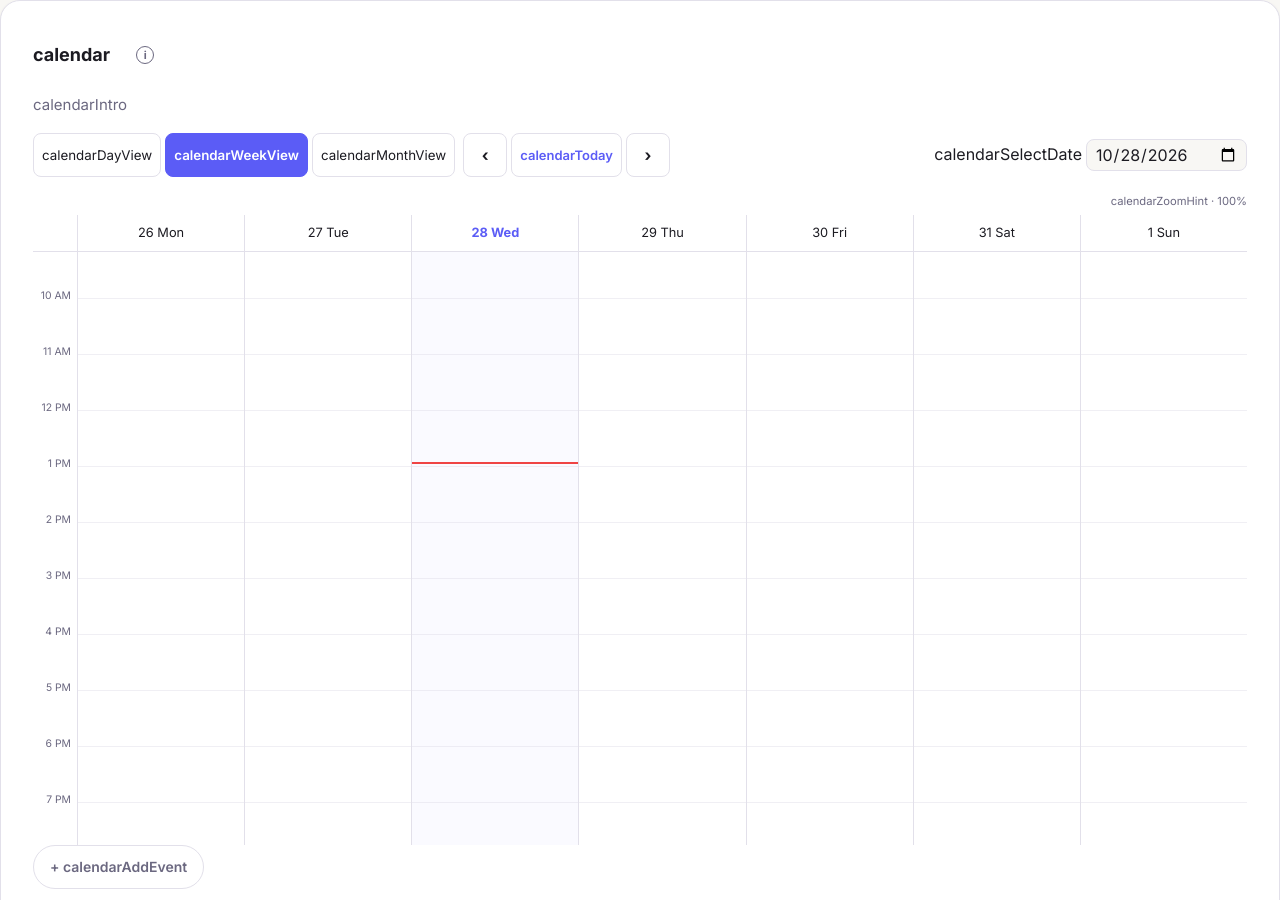
Test: CalendarView › steps a day, a week, or a month depending on the view
(page scrolled)
In the date field labelled "calendarSelectDate": (1166, 155) [1086,139,1247,171], type "2026-01-31"
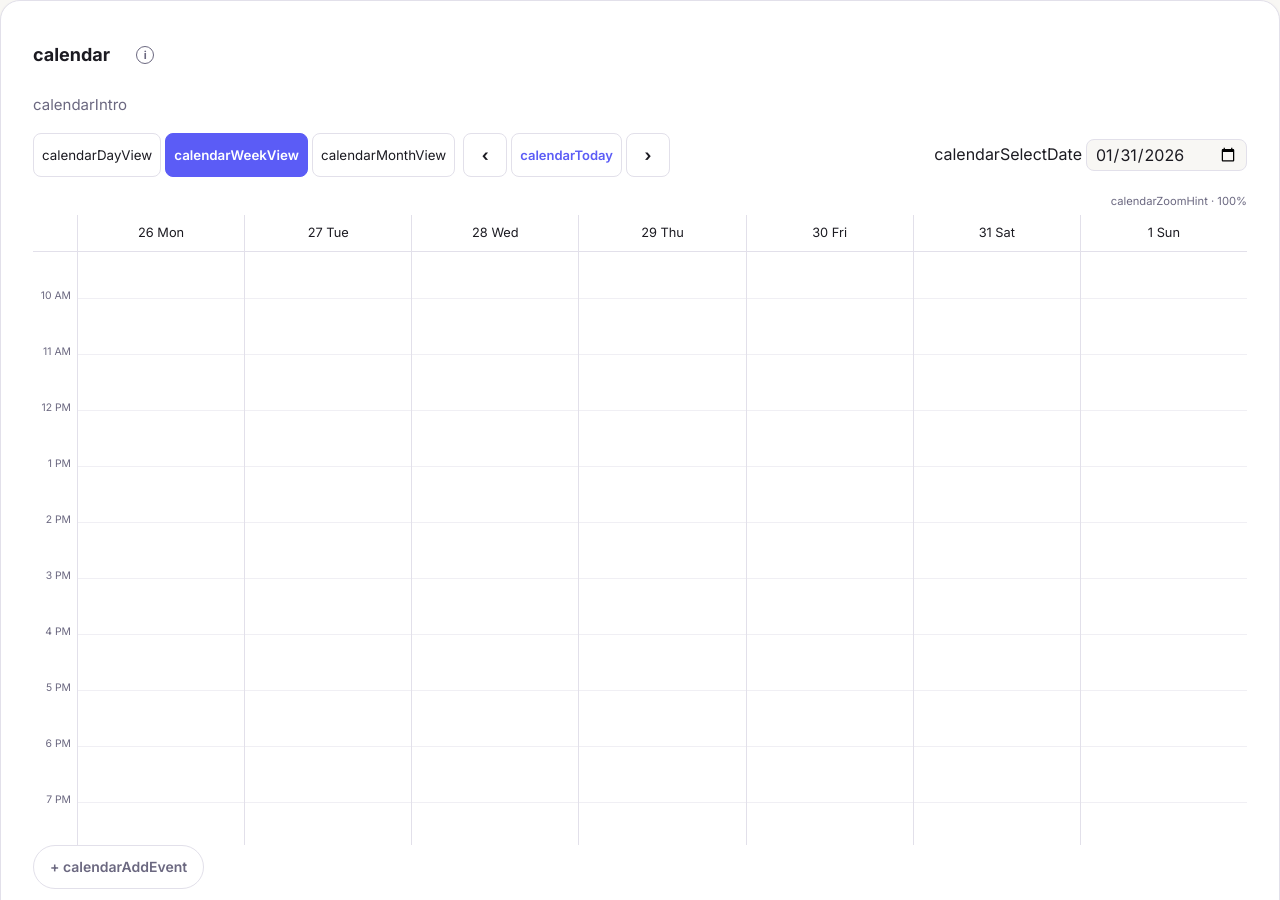
Click the button named "calendarNext": (648, 155) [626,133,670,177]
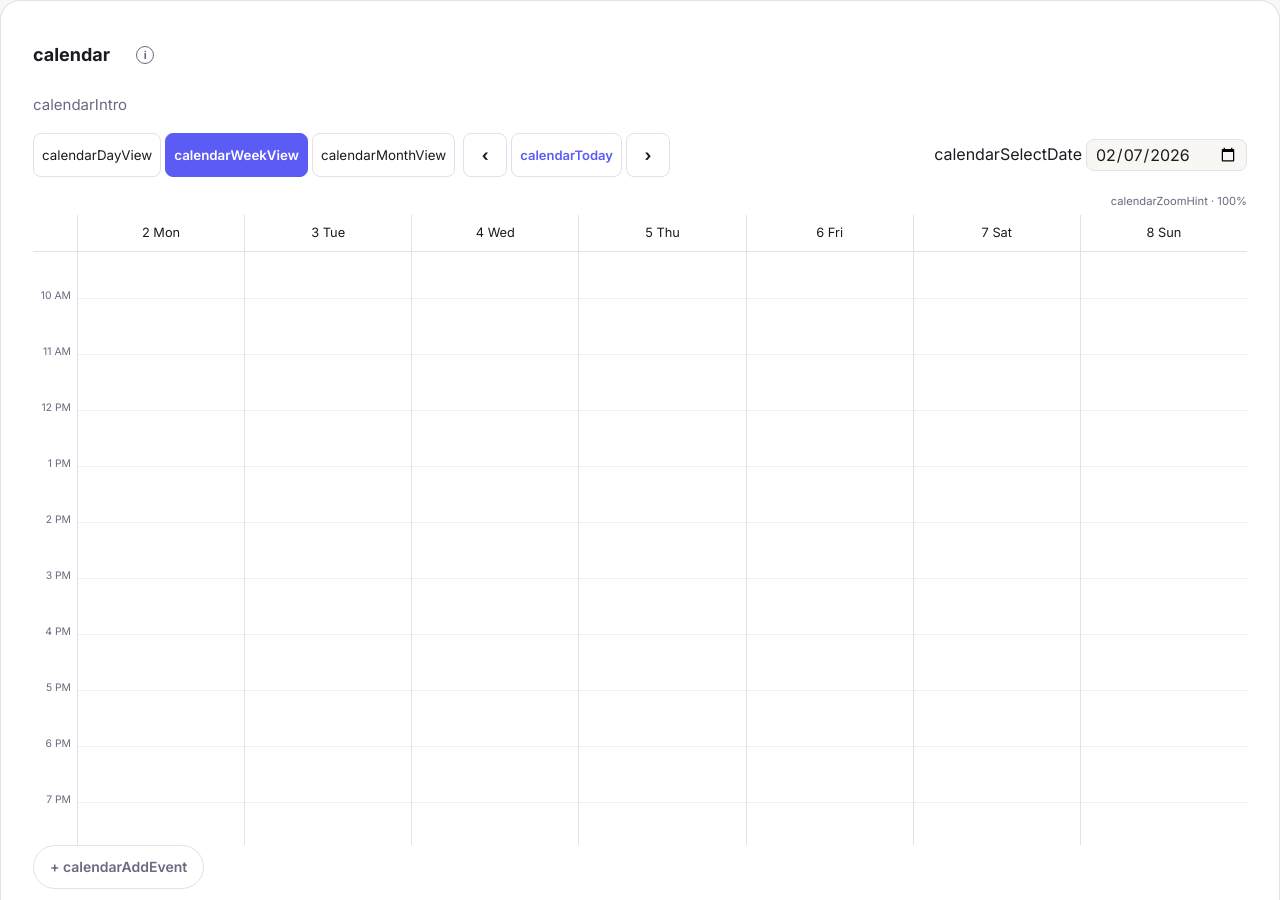
Expected: the date field labelled "calendarSelectDate" holds "2026-02-07", [1086,139,1247,171]
Click the button "calendarDayView": (97, 155) [33,133,161,177]
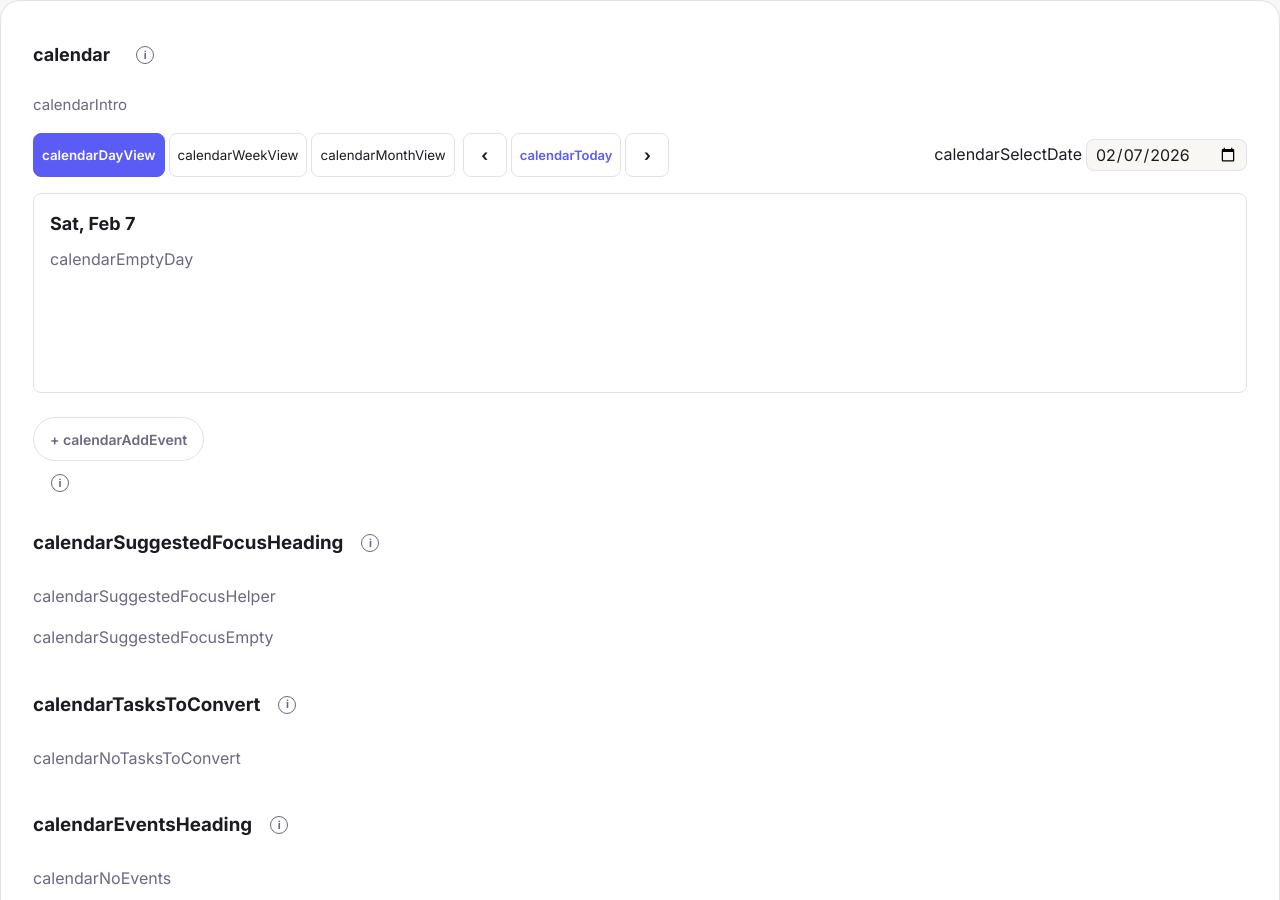
Click the button named "calendarPrev": (485, 155) [463,133,507,177]
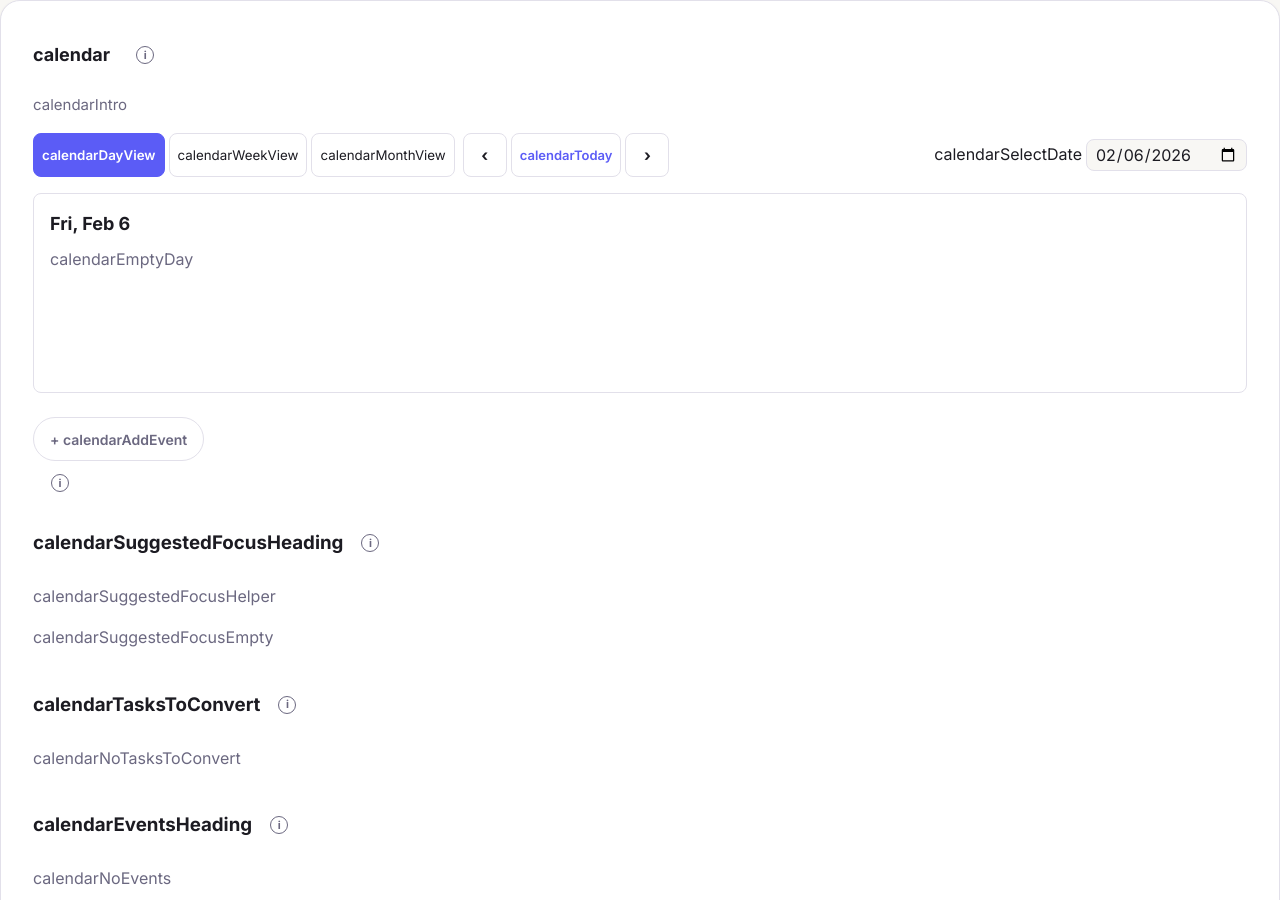
Expected: the date field labelled "calendarSelectDate" holds "2026-02-06", [1086,139,1247,171]
Click the button "calendarMonthView": (383, 155) [311,133,455,177]
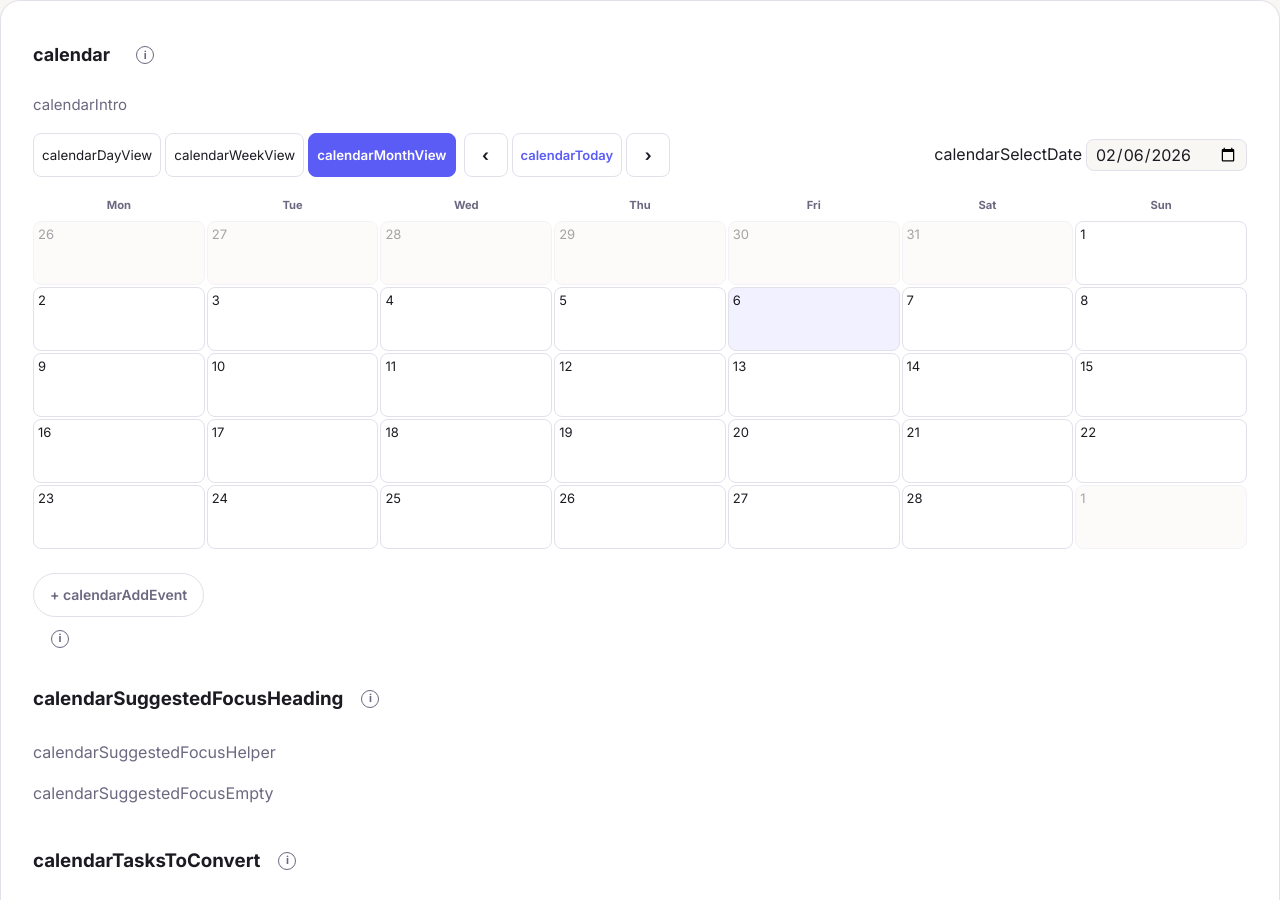
Click the button named "calendarNext": (648, 155) [626,133,670,177]
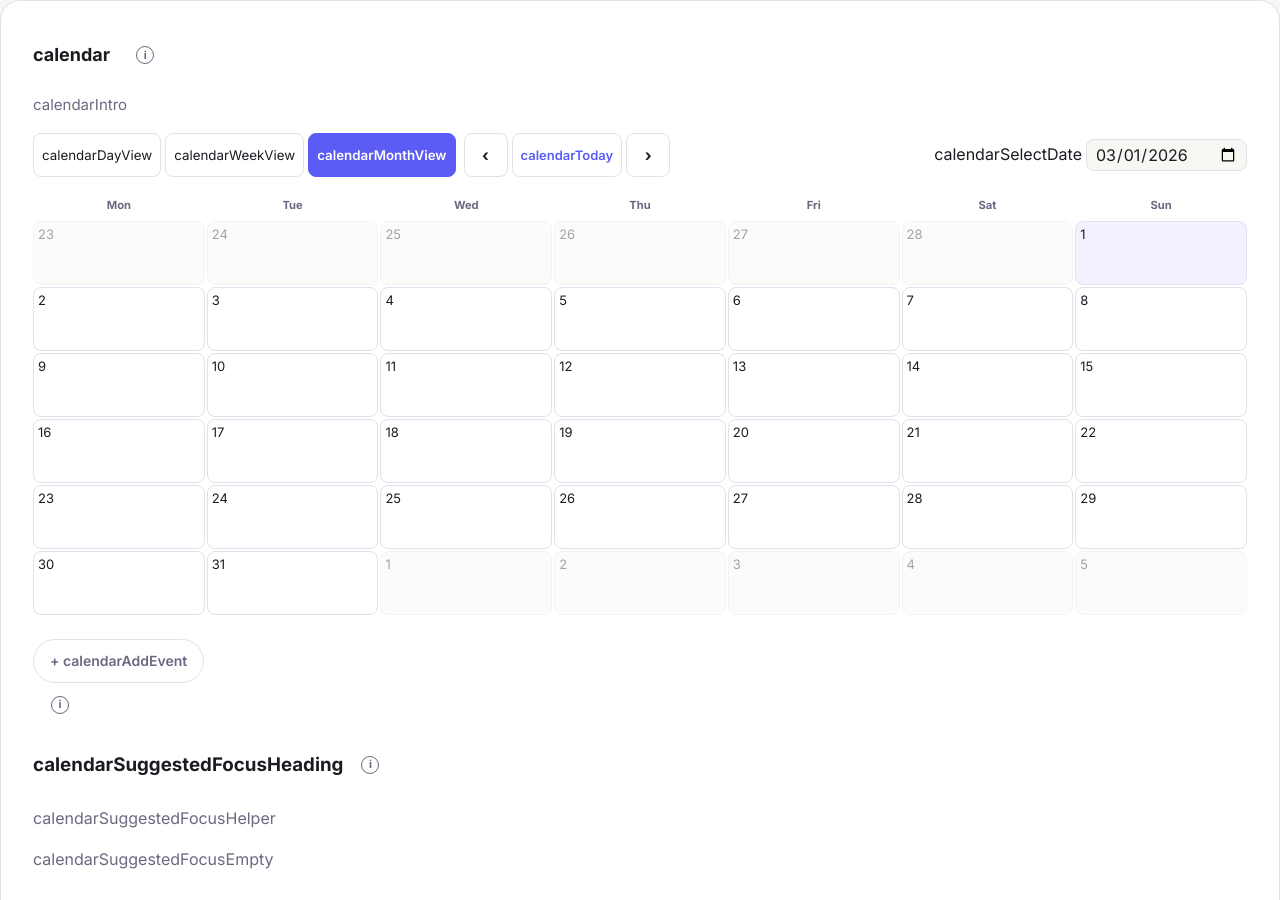
Expected: the date field labelled "calendarSelectDate" holds "2026-03-01", [1086,139,1247,171]
